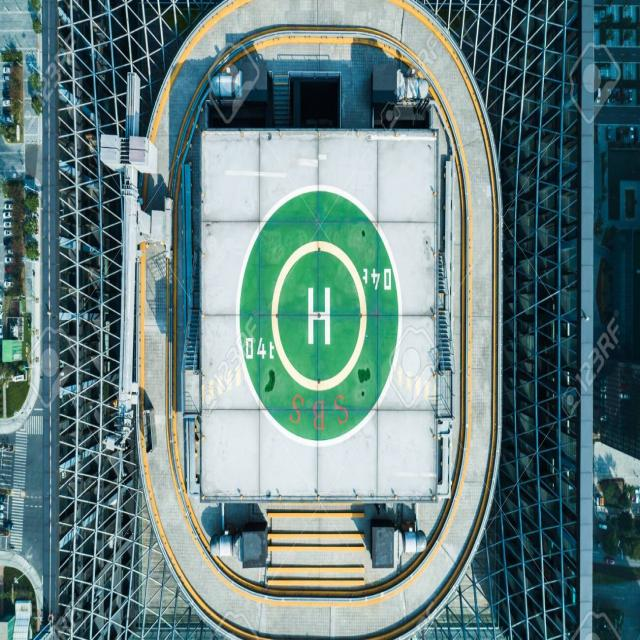helipad: (269, 236, 368, 394)
